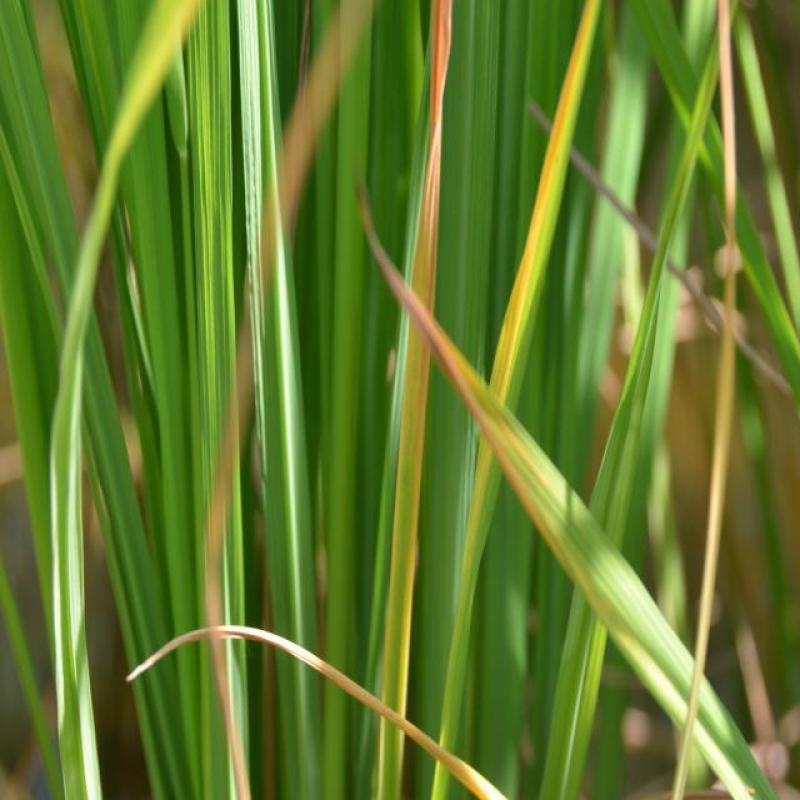Rice Tungro: (351, 21, 614, 800)
